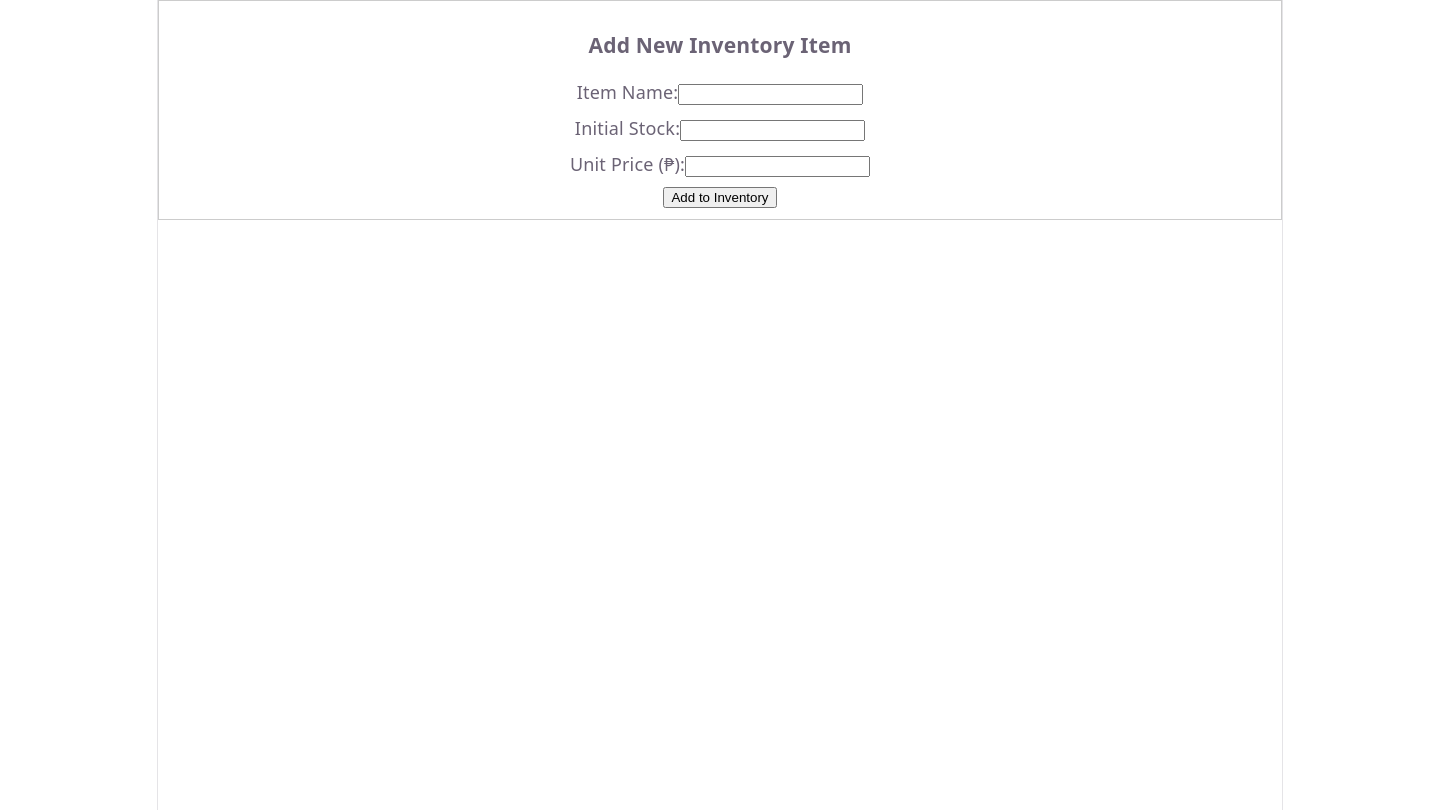
Test: ItemForm Validation (Week 2 Day 1) › should display an error message if Initial Stock is negative
Type "Valid" into the field labelled "Item Name:" at (771, 95), box [678, 84, 863, 105]
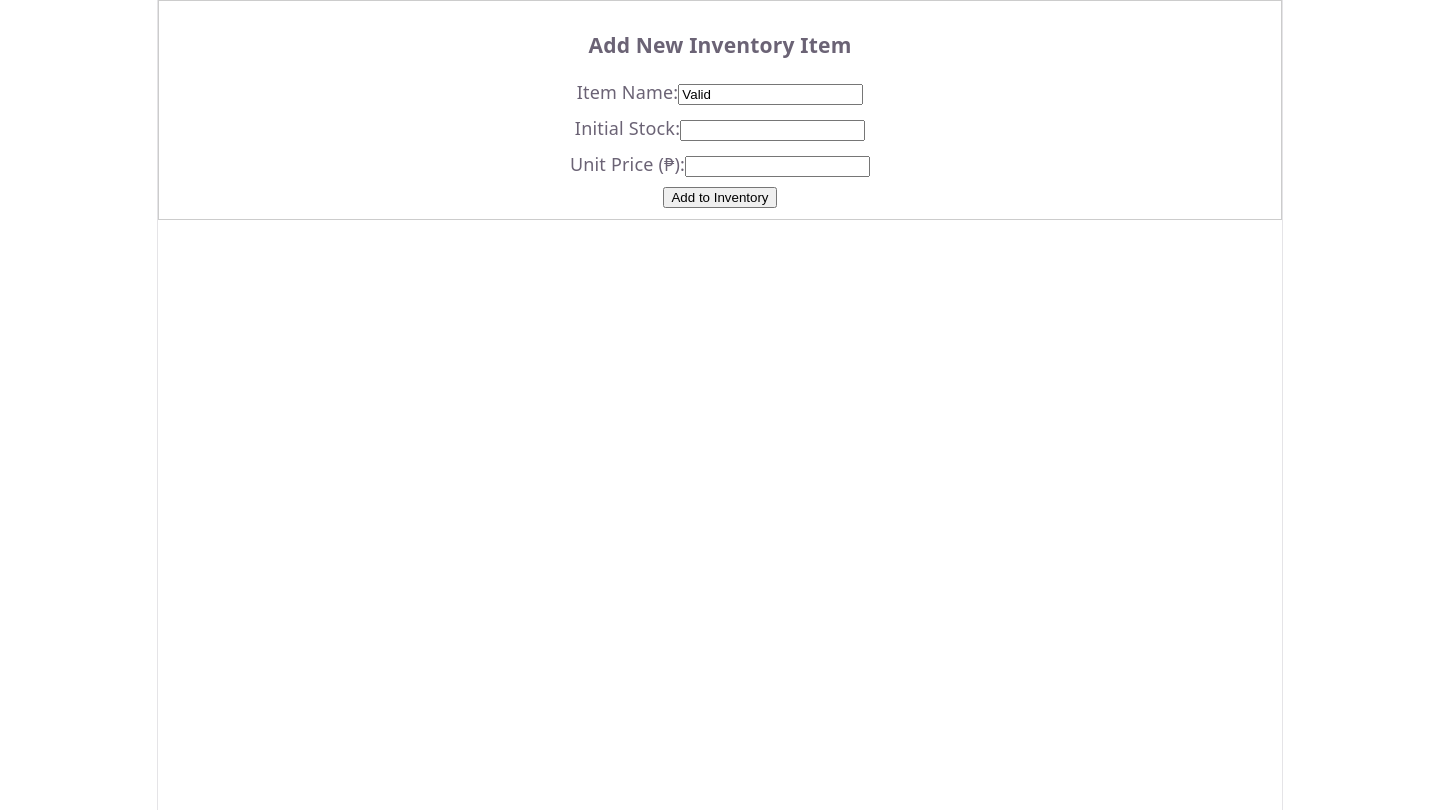
Type "-5" into the number field labelled "Initial Stock:" at (773, 131), box [680, 120, 865, 141]
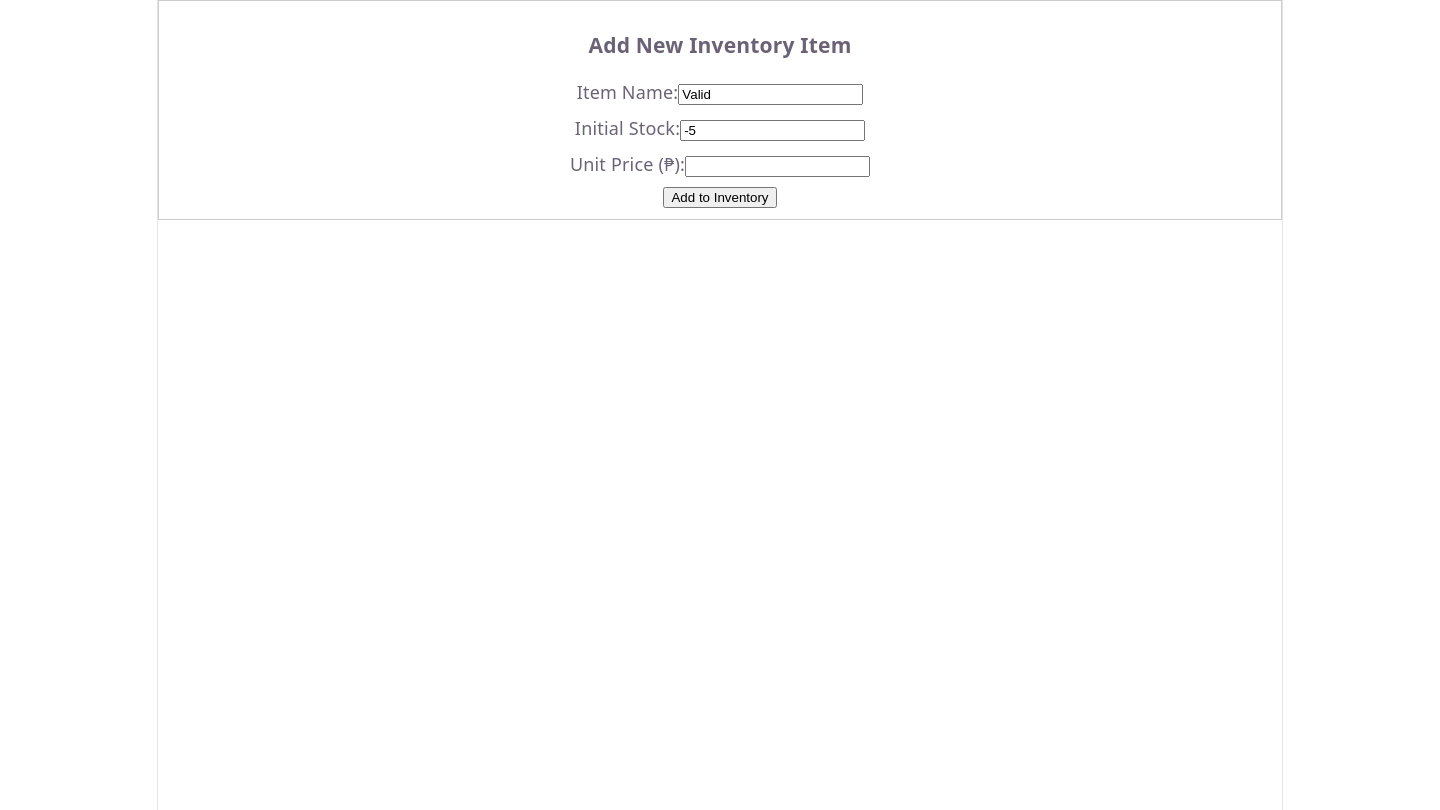
Click the button "Add to Inventory" at (720, 198), box [664, 188, 777, 208]
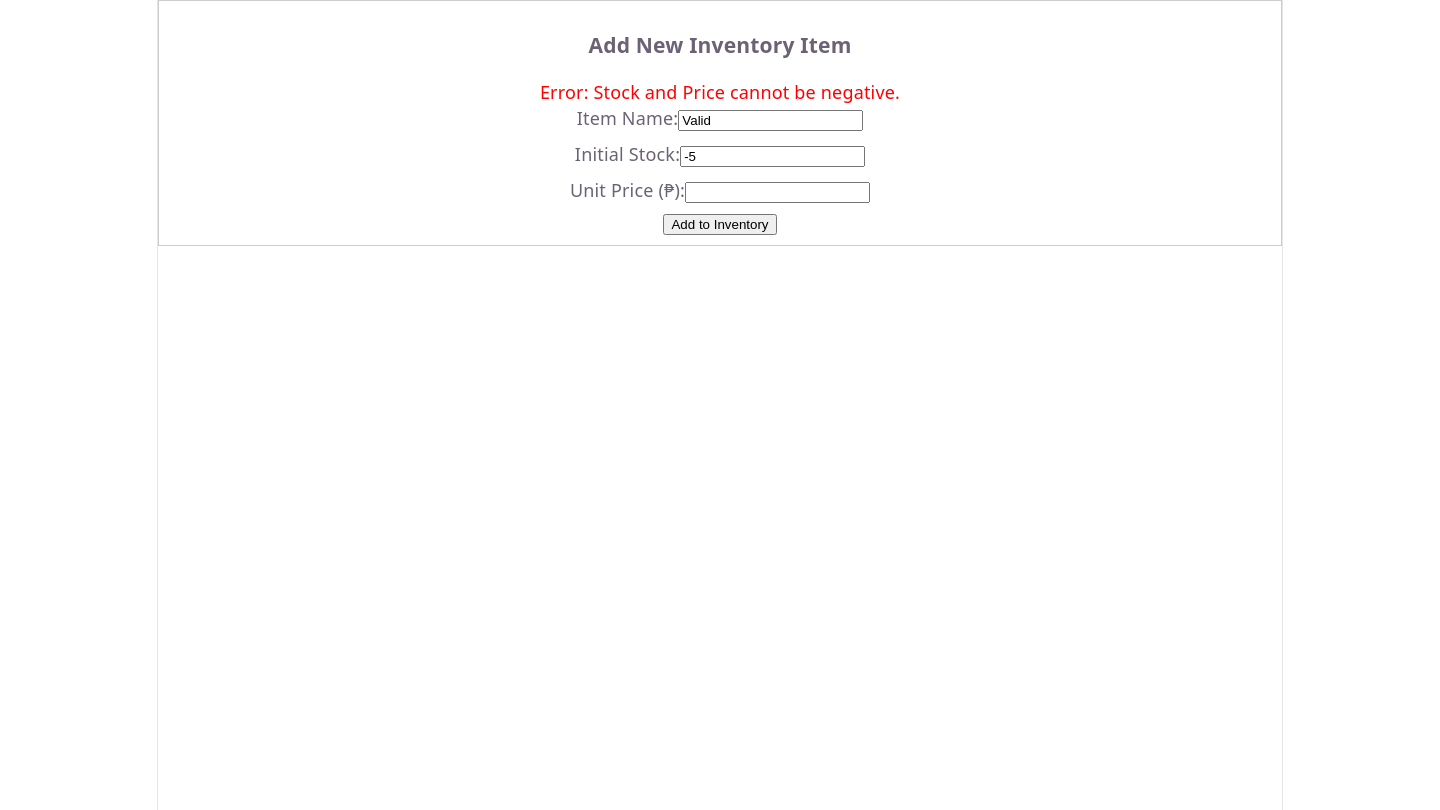
Expected: the text "Error: Stock and Price cannot be negative." is shown, [540, 80, 900, 104]
